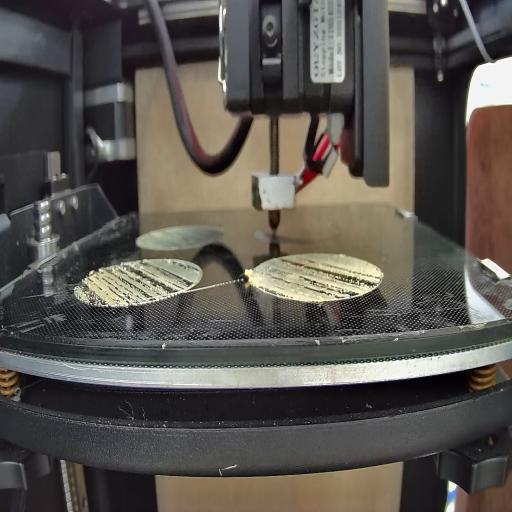under_extrusion: (258, 258, 380, 300)
